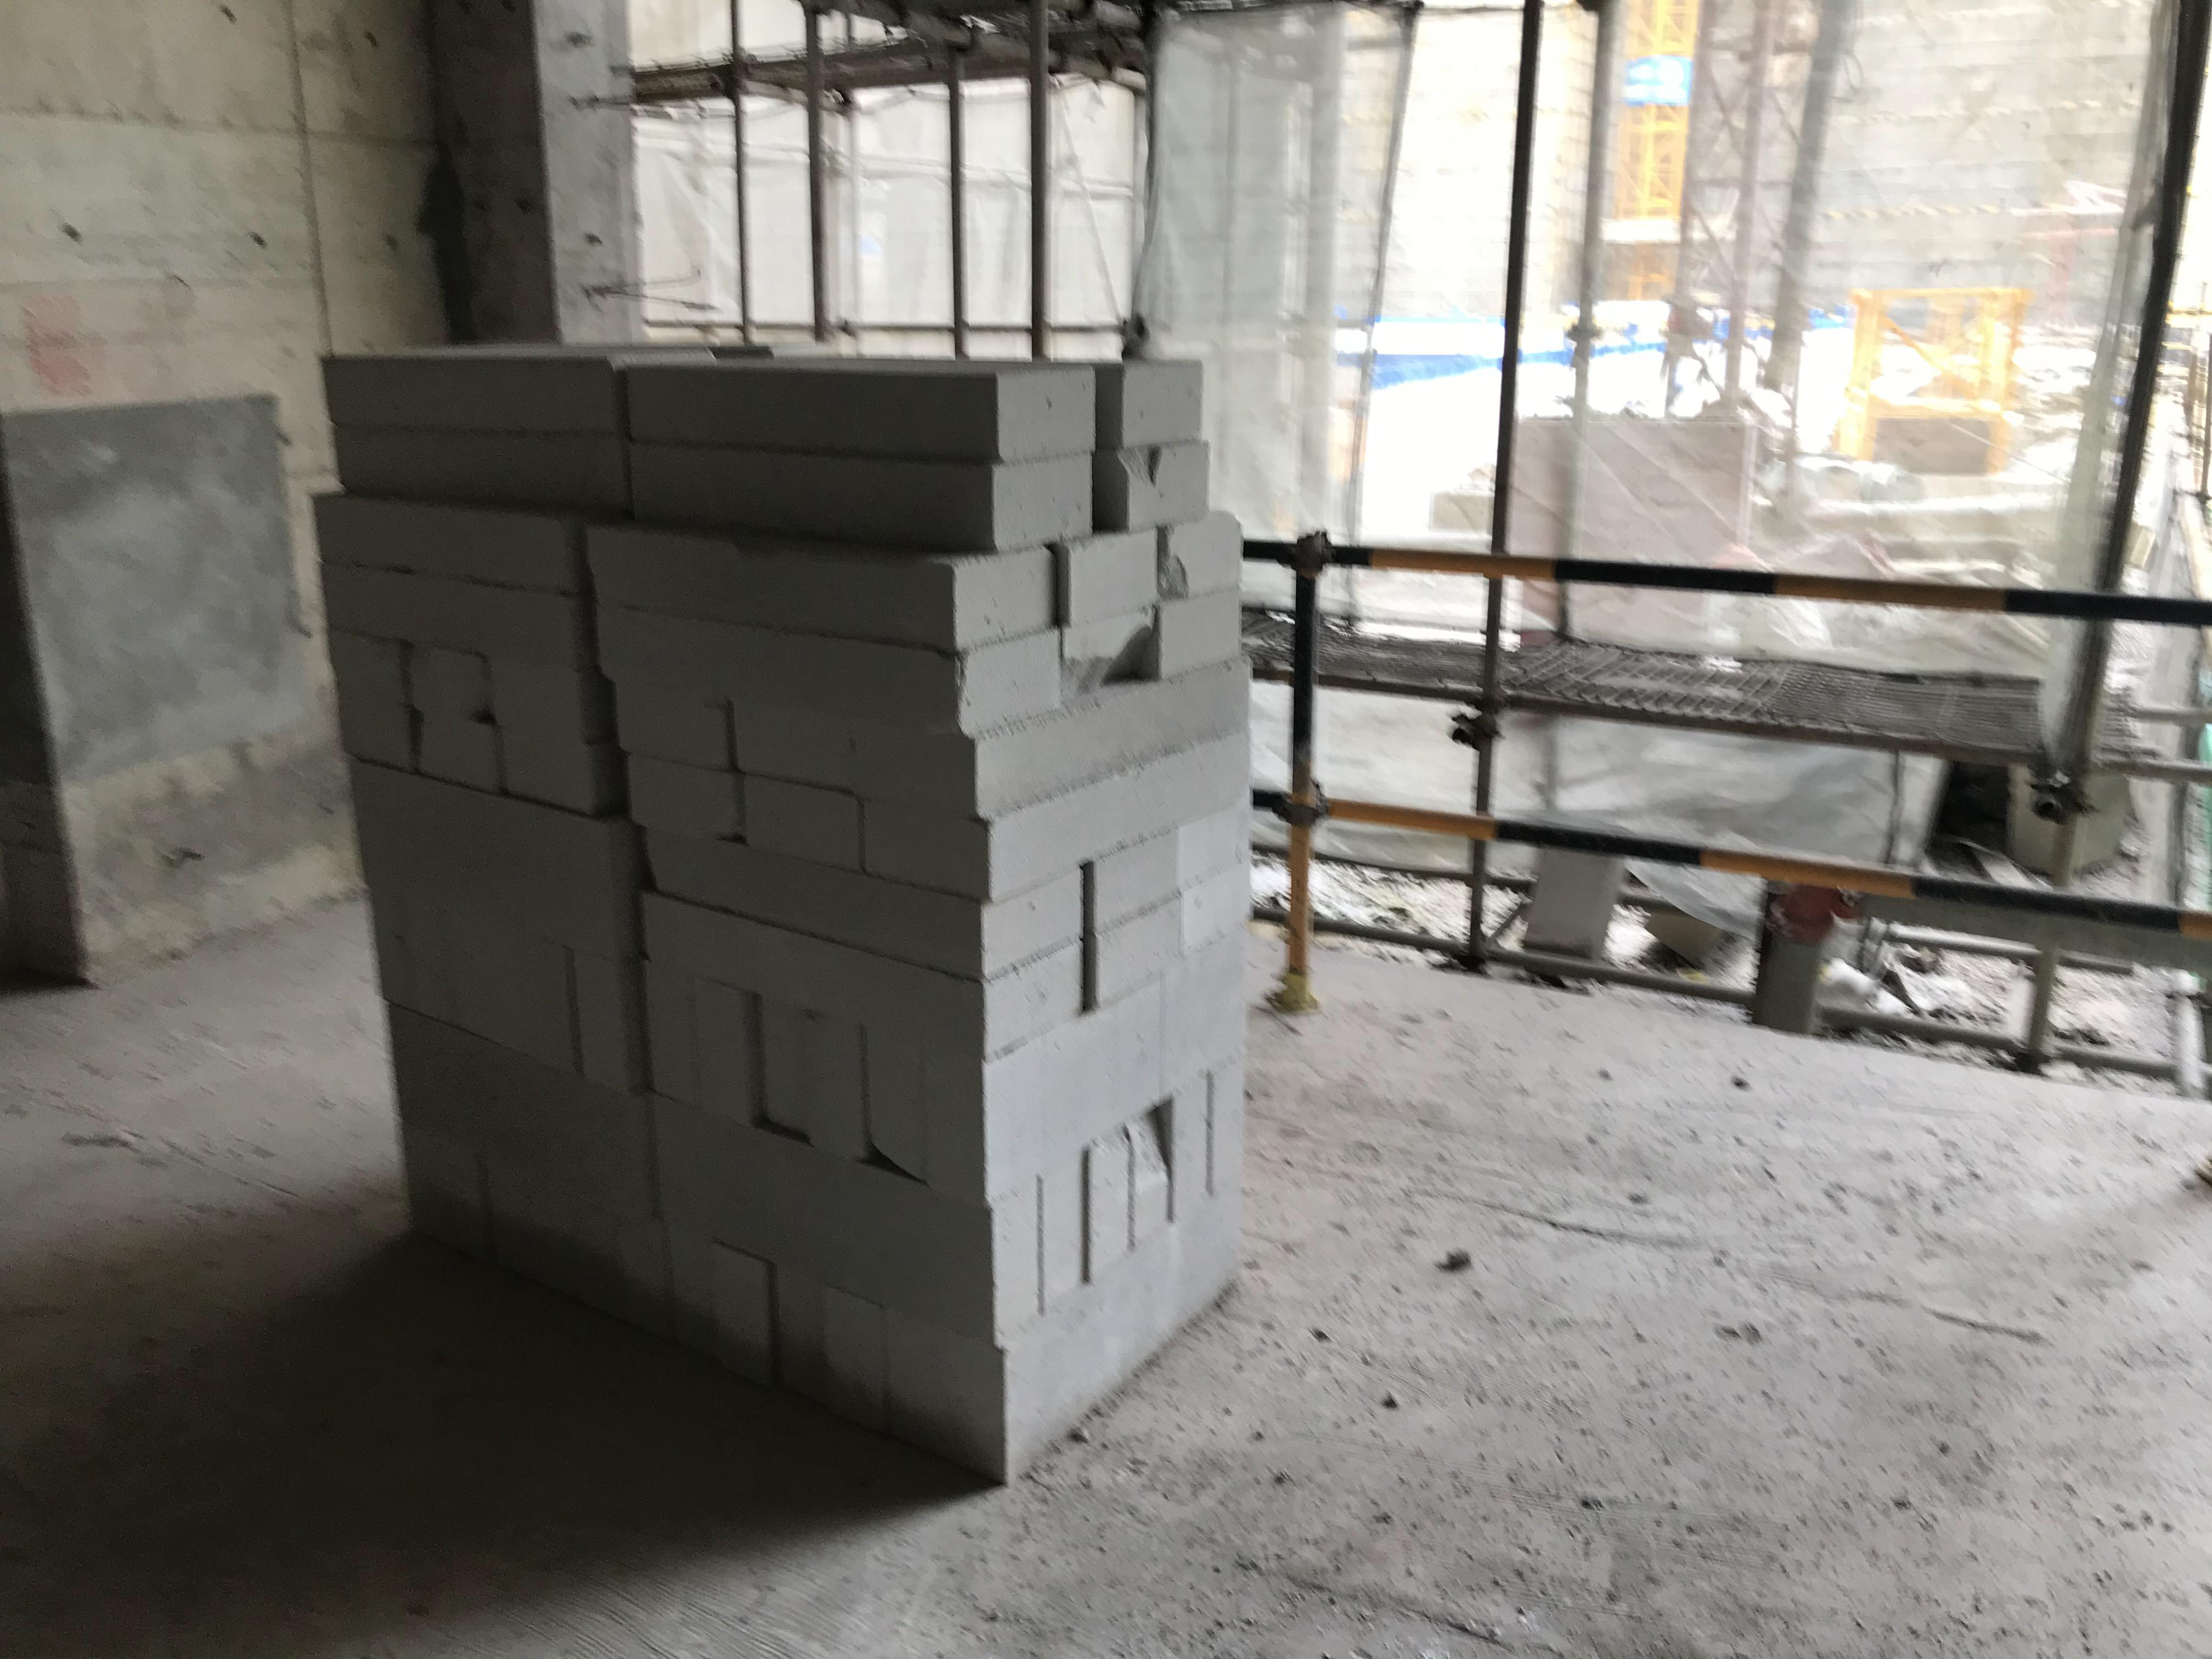brick: (314, 343, 1251, 1481)
